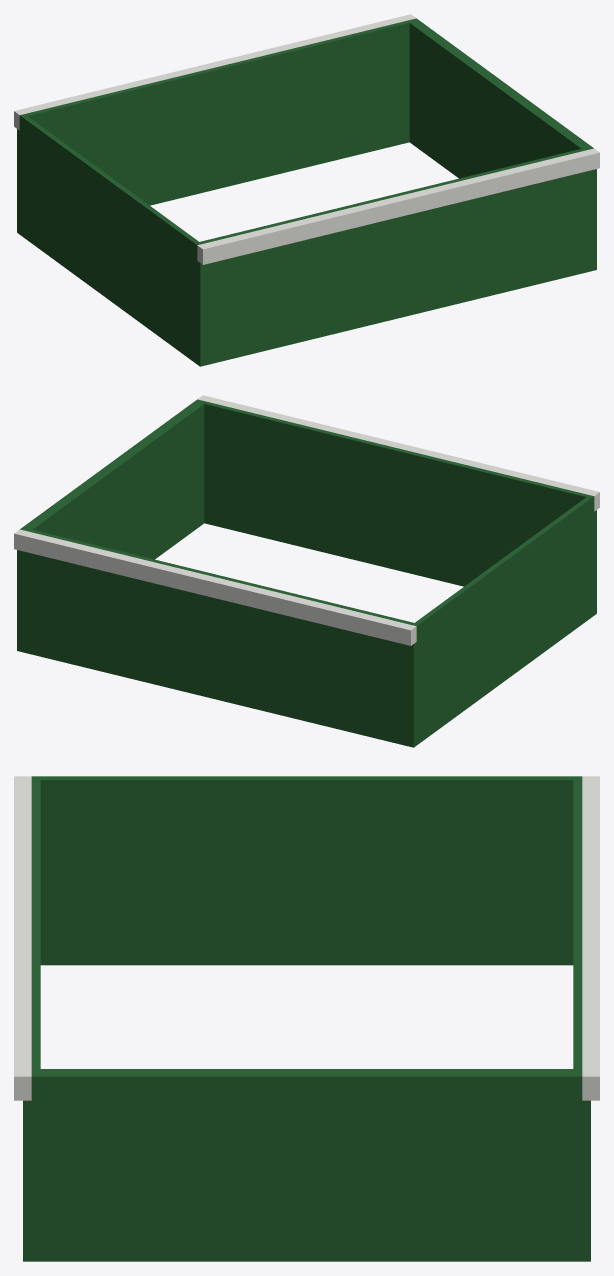
File: combine_harvester_grain_tank.glb
The picture shows the model from 3 angles, top to bottom: view 1: azimuth 30°, elevation 25°; view 2: azimuth 150°, elevation 25°; view 3: azimuth 270°, elevation 25°; orthographic projection. The views are drawn at different scales.
Visible parts, largest first — view 1: body:compound; view 2: body:compound; view 3: body:compound.
Part boxes in pixels (left/top/right/bottom): body:compound: left=14, top=14, right=599, bottom=366; body:compound: left=14, top=395, right=599, bottom=747; body:compound: left=14, top=776, right=599, bottom=1261.
Bounding box in the file's own units: 2.5 × 0.7188 × 2.06.
